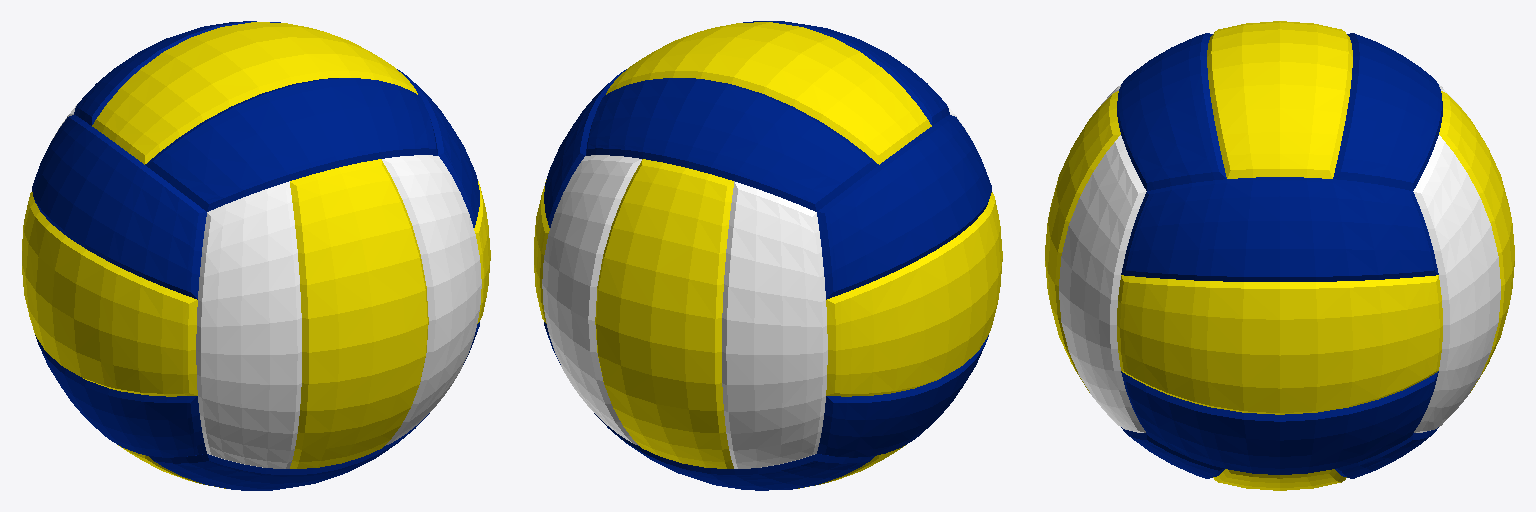
The picture shows the model from 3 angles: view 1: azimuth 30°, elevation 25°; view 2: azimuth 150°, elevation 25°; view 3: azimuth 270°, elevation 25°; orthographic projection.
Parts seen in each view (by area): view 1: Volley_ball_mesh; view 2: Volley_ball_mesh; view 3: Volley_ball_mesh.
Part boxes in pixels (left/top/right/bottom): Volley_ball_mesh: left=22, top=21, right=490, bottom=490; Volley_ball_mesh: left=534, top=21, right=1002, bottom=490; Volley_ball_mesh: left=1045, top=21, right=1514, bottom=490.
Bounding box in the file's own units: 51 × 51 × 51.
1 materials, 1 textured.